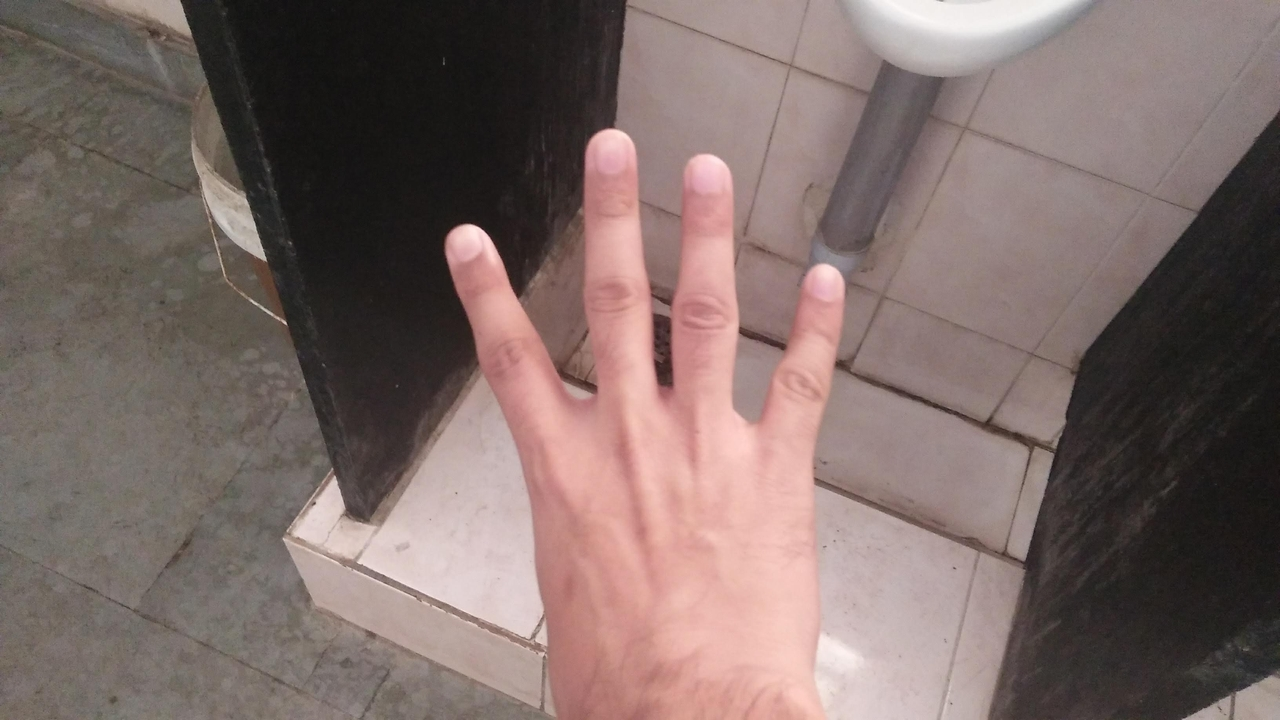fingertip: (678, 146, 740, 208), (436, 218, 500, 278), (584, 122, 644, 186), (796, 252, 854, 314)
